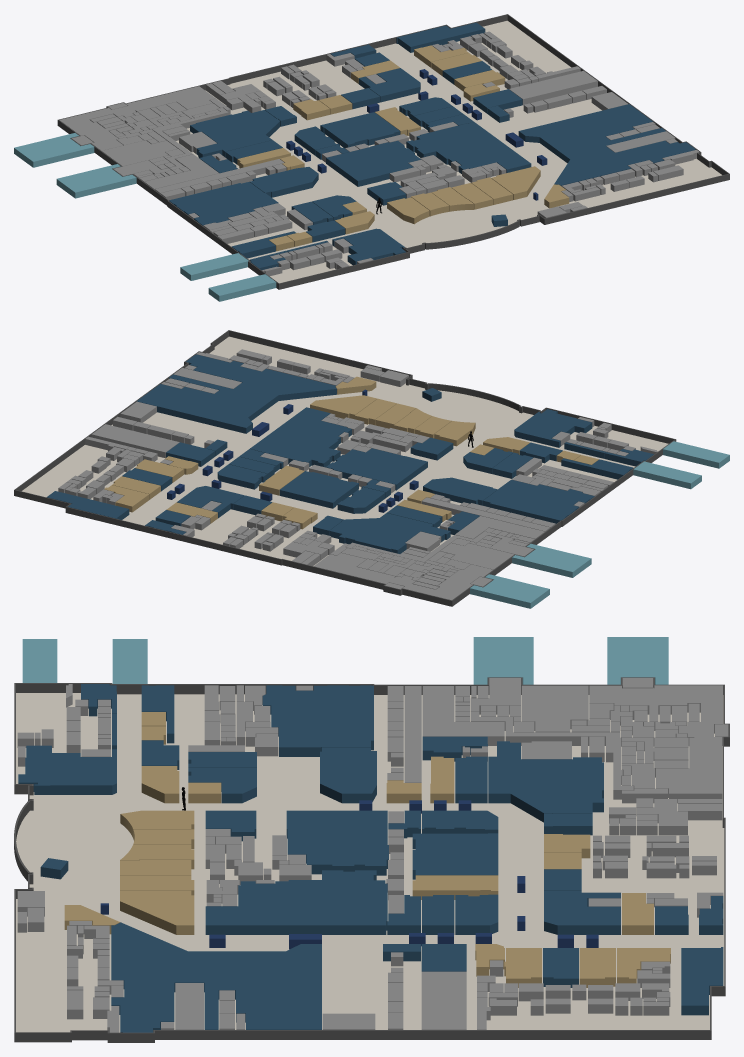
File: first_floor_version2.gltf
3 views of the same model, one above another, from view 1: azimuth 30°, elevation 25°; view 2: azimuth 150°, elevation 25°; view 3: azimuth 270°, elevation 25° (orthographic). The views are drawn at different scales.
Parts seen in each view (by area): view 1: ff_ground, ff_frame, ff_g-35-36-37.001, ff_tr_b.043, ff_g-10.001, ff_tr_g.002, ff_tr_g.001, ff_tr_d.031, ff_g-17.001, ff_g-27.001, ff_tr_b.039, ff_tr_g.003 (+50 smaller); view 2: ff_ground, ff_frame, ff_g-35-36-37.001, ff_g-10.001, ff_tr_b.043, ff_tr_g.002, ff_tr_g.001, ff_tr_d.031, ff_g-17.001, ff_tr_b.039, ff_tr_g.003, ff_tr_g.004 (+54 smaller); view 3: ff_ground, ff_g-35-36-37.001, ff_frame, ff_tr_b.043, ff_g-10.001, ff_g-17.001, ff_tr_b.039, ff_tr_g.002, ff_tr_d.031, ff_g-40.001, ff_tr_g.001, ff_tr_g (+69 smaller).
Boxes of the visible parts, left/top/right/bottom form: ff_ground: left=176, top=20, right=721, bottom=283; ff_frame: left=57, top=14, right=729, bottom=289; ff_g-35-36-37.001: left=518, top=104, right=695, bottom=186; ff_tr_b.043: left=59, top=86, right=215, bottom=150; ff_g-10.001: left=169, top=182, right=278, bottom=225; ff_tr_g.002: left=14, top=133, right=94, bottom=167; ff_tr_g.001: left=56, top=164, right=136, bottom=198; ff_tr_d.031: left=509, top=70, right=597, bottom=105; ff_g-17.001: left=196, top=121, right=280, bottom=157; ff_g-27.001: left=396, top=22, right=485, bottom=52; ff_tr_b.039: left=102, top=140, right=177, bottom=166; ff_tr_g.003: left=180, top=253, right=248, bottom=280; ff_ground: left=22, top=336, right=668, bottom=566; ff_frame: left=14, top=330, right=676, bottom=606; ff_g-35-36-37.001: left=136, top=354, right=336, bottom=433; ff_g-10.001: left=483, top=479, right=594, bottom=523; ff_tr_b.043: left=313, top=553, right=492, bottom=600; ff_tr_g.002: left=470, top=574, right=549, bottom=608; ff_tr_g.001: left=512, top=543, right=591, bottom=577; ff_tr_d.031: left=91, top=424, right=179, bottom=458; ff_g-17.001: left=345, top=513, right=450, bottom=541; ff_tr_b.039: left=440, top=543, right=513, bottom=569; ff_tr_g.003: left=633, top=461, right=701, bottom=489; ff_tr_g.004: left=663, top=441, right=729, bottom=468; ff_ground: left=16, top=693, right=724, bottom=1032; ff_g-35-36-37.001: left=111, top=922, right=321, bottom=1032; ff_frame: left=14, top=677, right=729, bottom=1042; ff_tr_b.043: left=589, top=685, right=722, bottom=803; ff_g-10.001: left=262, top=685, right=373, bottom=756; ff_g-17.001: left=488, top=741, right=543, bottom=822; ff_tr_b.039: left=521, top=685, right=588, bottom=732; ff_tr_g.002: left=607, top=637, right=668, bottom=684; ff_tr_d.031: left=421, top=971, right=466, bottom=1029; ff_g-40.001: left=120, top=890, right=194, bottom=934; ff_tr_g.001: left=473, top=637, right=533, bottom=684; ff_tr_g: left=422, top=686, right=504, bottom=745.
Size of the model in its own units: 3.58 by 0.1029 by 2.73.
